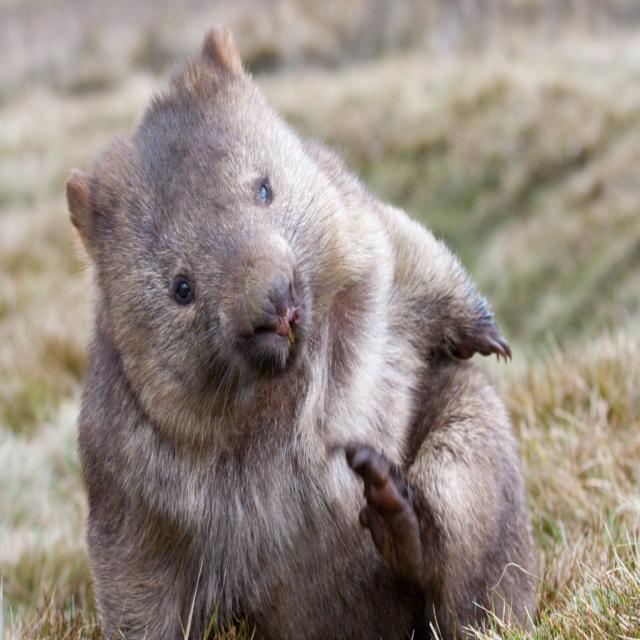wombats: (66, 28, 536, 639)
